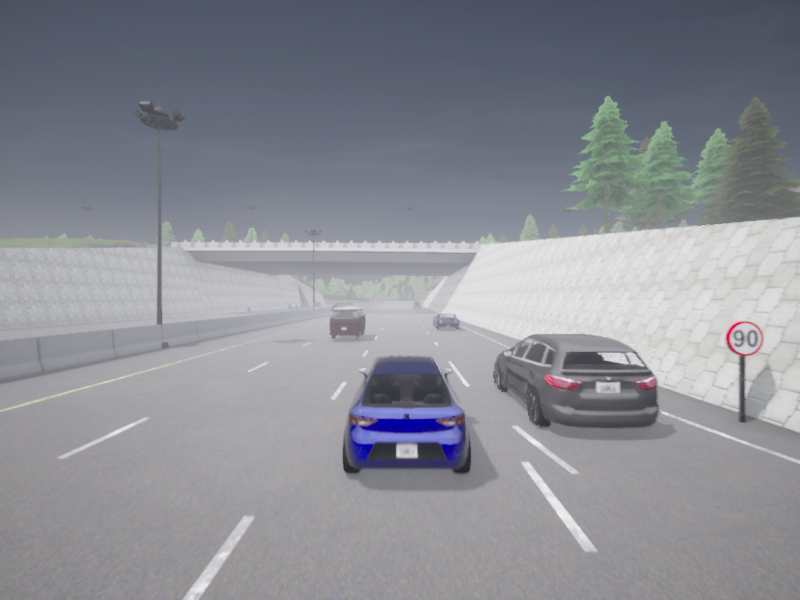vehicle: (494, 334, 658, 427), (342, 355, 470, 473), (330, 306, 365, 339), (433, 313, 459, 328), (330, 302, 353, 314), (413, 302, 420, 308)
